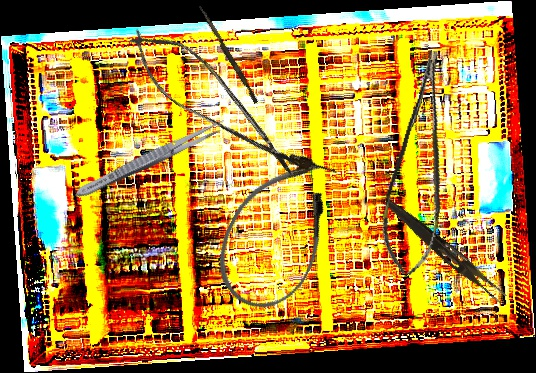Cannula: (200, 137, 356, 325)
Dressing Forceps: (70, 114, 230, 204), (379, 196, 511, 305)
Micro Scissor: (112, 12, 317, 192), (367, 47, 482, 280)
Pusher: (195, 5, 261, 104)
